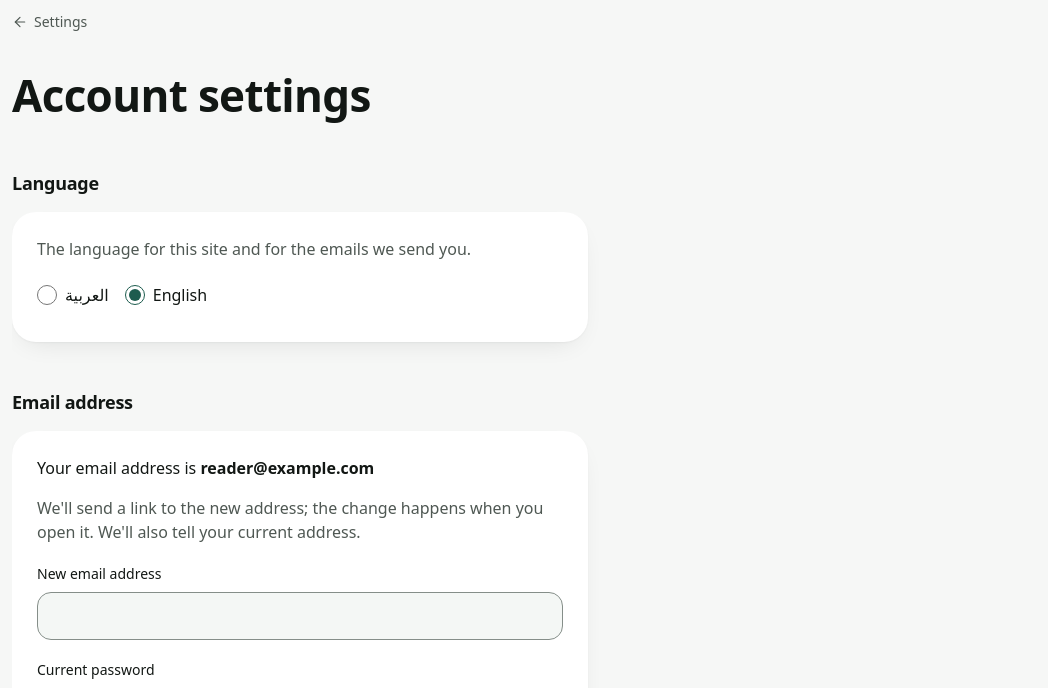
Scenario: AccountPage › saves the language to the account and switches the site
Click the radio button labelled "العربية": (47, 295) [37,285,57,305]
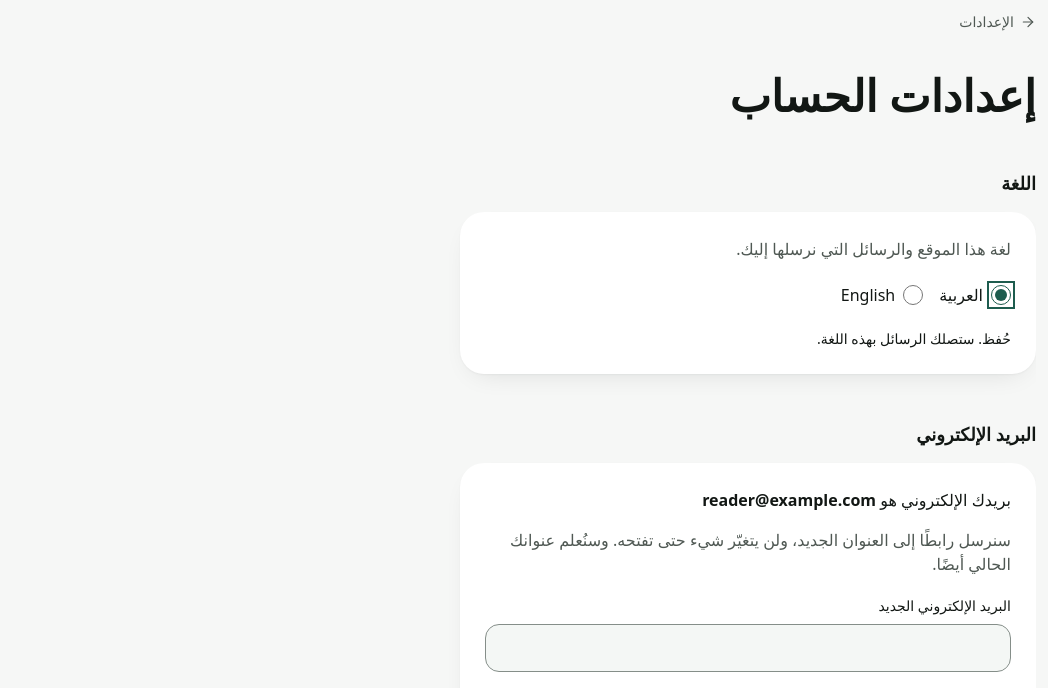
Now the message shows "حُفظ", box [817,329,1011,348]
